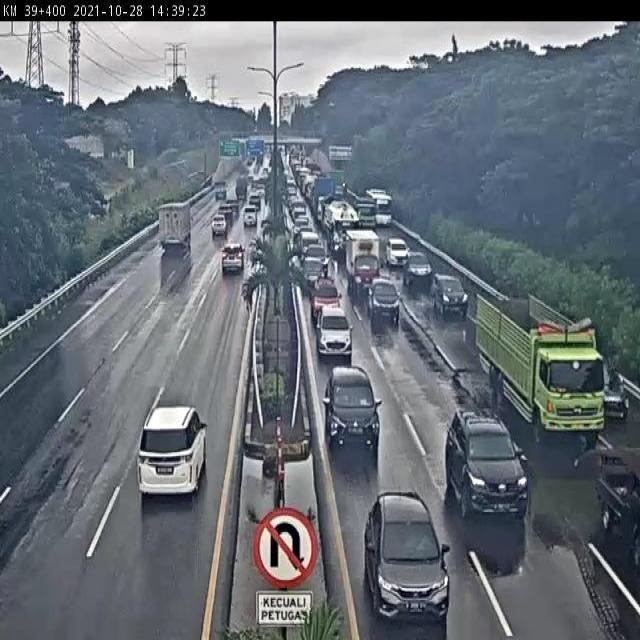ARABA: (362, 492, 449, 619), (444, 408, 527, 516), (136, 409, 205, 496), (322, 368, 379, 448), (317, 305, 351, 352), (433, 270, 468, 314), (366, 275, 398, 316), (309, 274, 339, 314), (406, 253, 434, 284), (221, 243, 247, 273), (302, 244, 329, 271), (302, 257, 324, 288), (210, 212, 227, 237)
KAMYONET: (475, 292, 601, 435), (596, 448, 640, 568), (344, 231, 378, 289), (158, 204, 192, 256)
